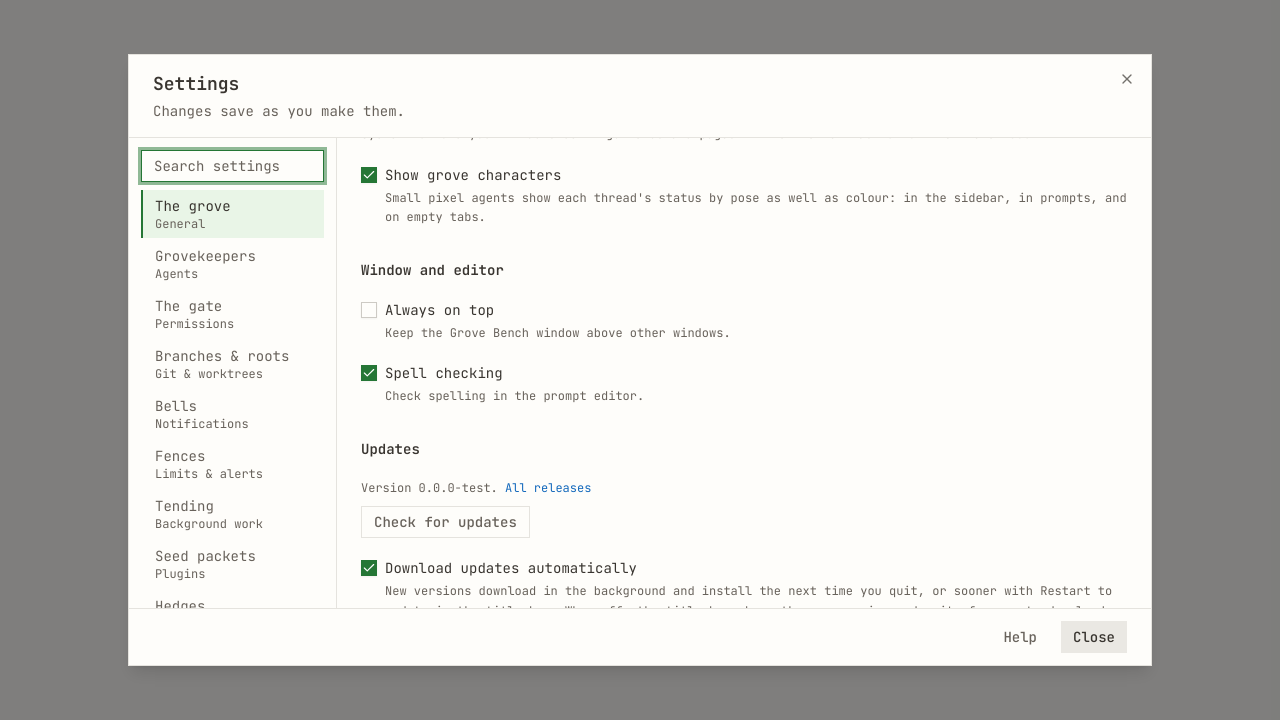
SettingsPanel auto-save › shows a failed save, keeps the change and retries
(page scrolled)
Click the checkbox named "Spell checking" next to "Spell checking": (369, 373) [361,365,377,381]
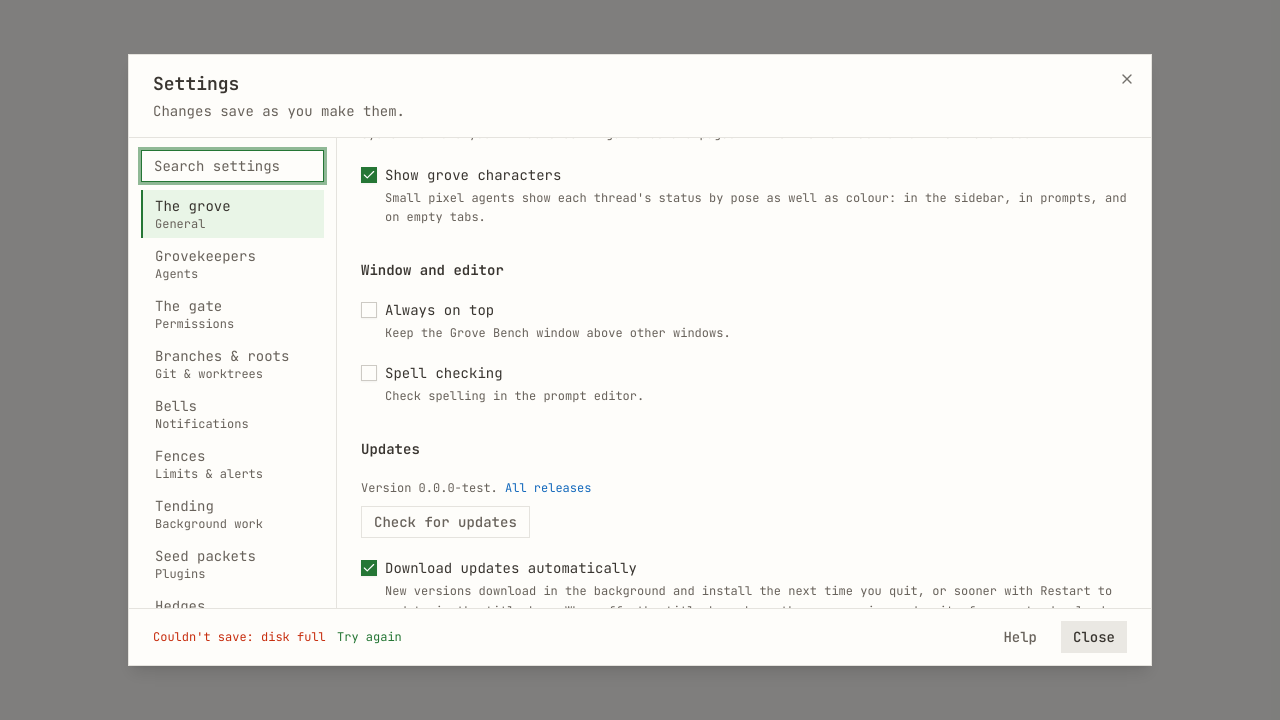
Result: the text "Couldn't save: disk full" is shown at [153,629,326,645]
Click the button "Try again": (369, 637) [337,629,402,645]
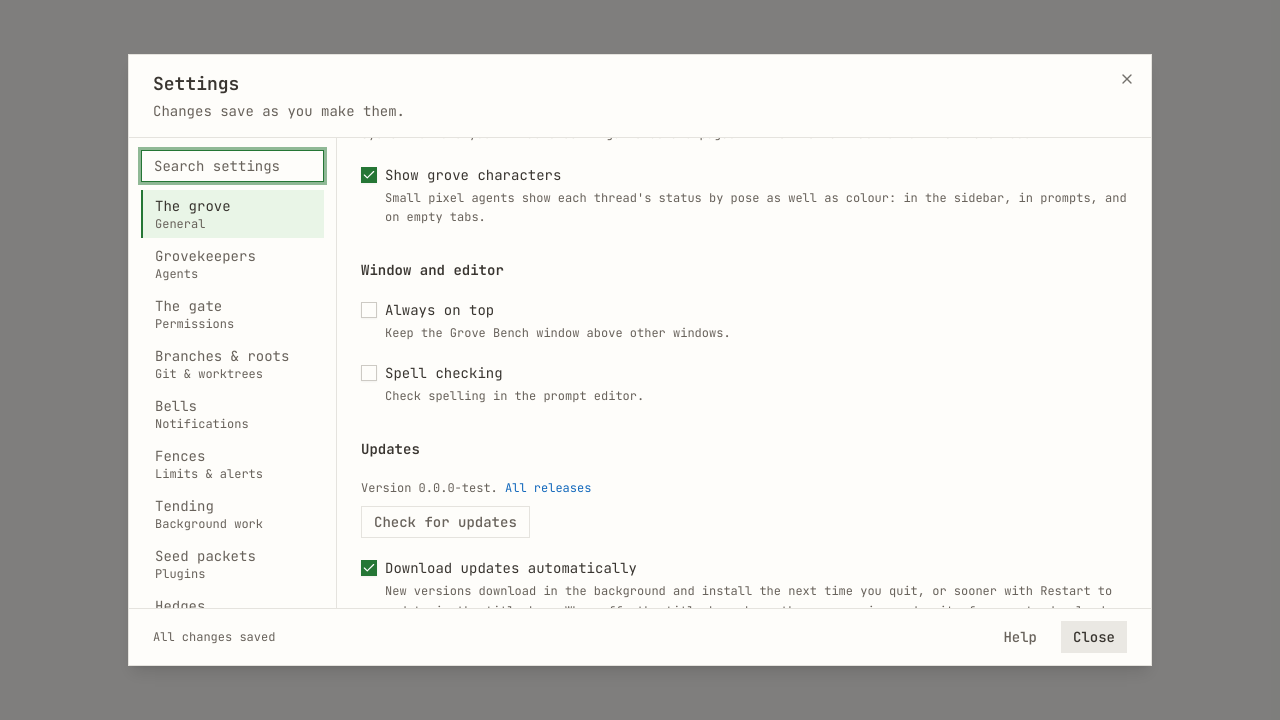
Result: the text "All changes saved" is shown at [153,629,275,645]
